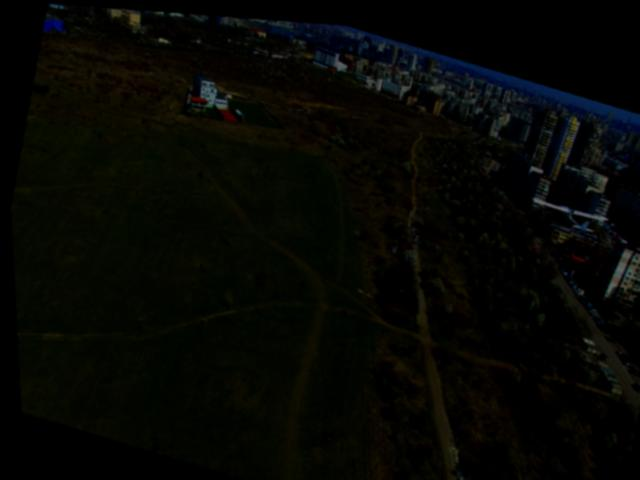plane: (524, 186, 607, 230)
